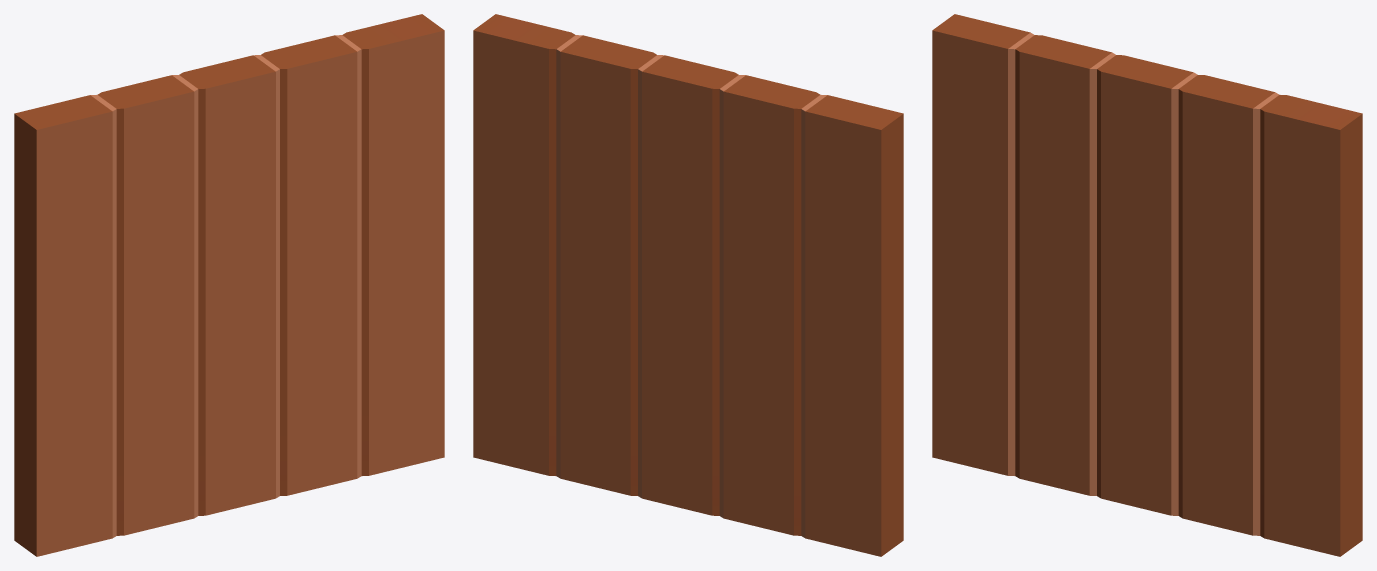
File: door2.fbx
The picture shows the model from 3 angles, left to right: view 1: azimuth 30°, elevation 25°; view 2: azimuth 150°, elevation 25°; view 3: azimuth 330°, elevation 25°; orthographic projection.
Parts seen in each view (by area): view 1: door2; view 2: door2; view 3: door2.
Part boxes in pixels (left/top/right/bottom): door2: left=14, top=14, right=444, bottom=556; door2: left=473, top=14, right=903, bottom=556; door2: left=932, top=14, right=1362, bottom=556.
Bounding box in the file's own units: 301 × 301 × 28.78.
